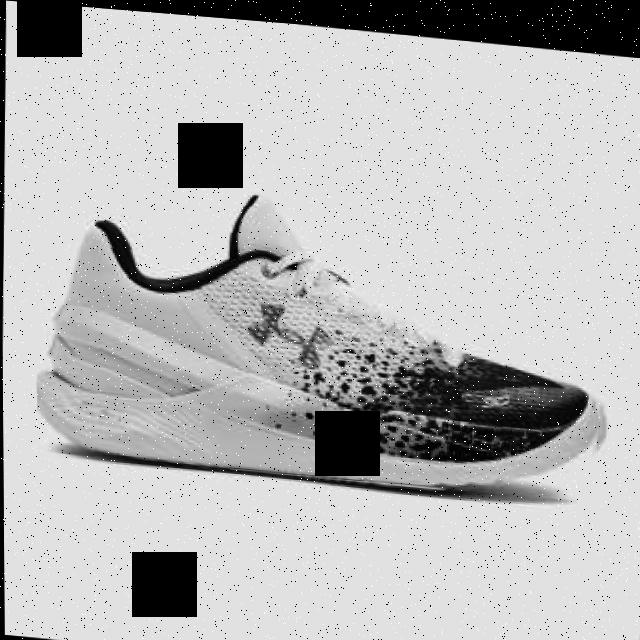shoe: (33, 172, 608, 497)
